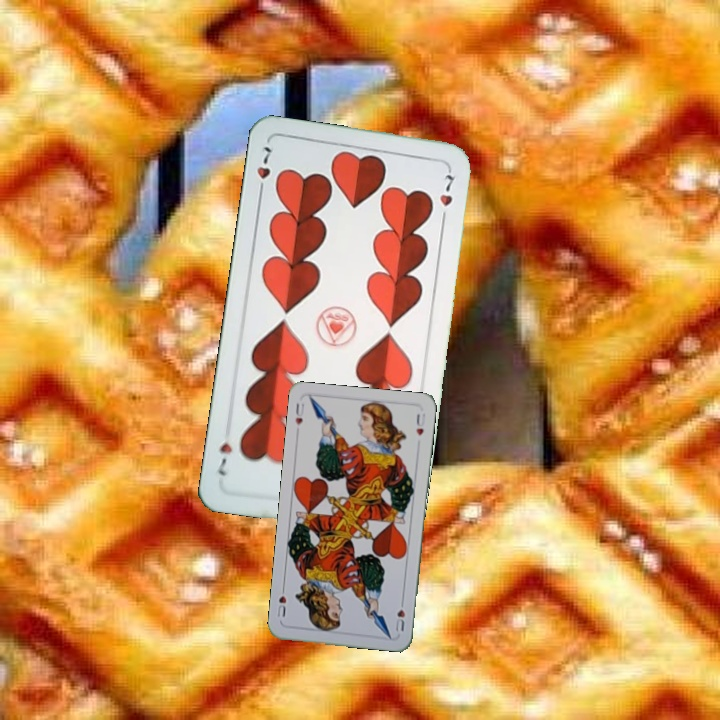H7: (252, 142, 274, 199)
HU: (391, 595, 407, 634), (291, 399, 307, 427)
